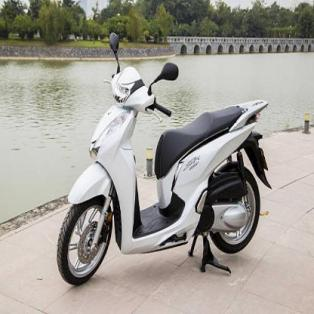Motocicleta: (51, 43, 269, 290)
